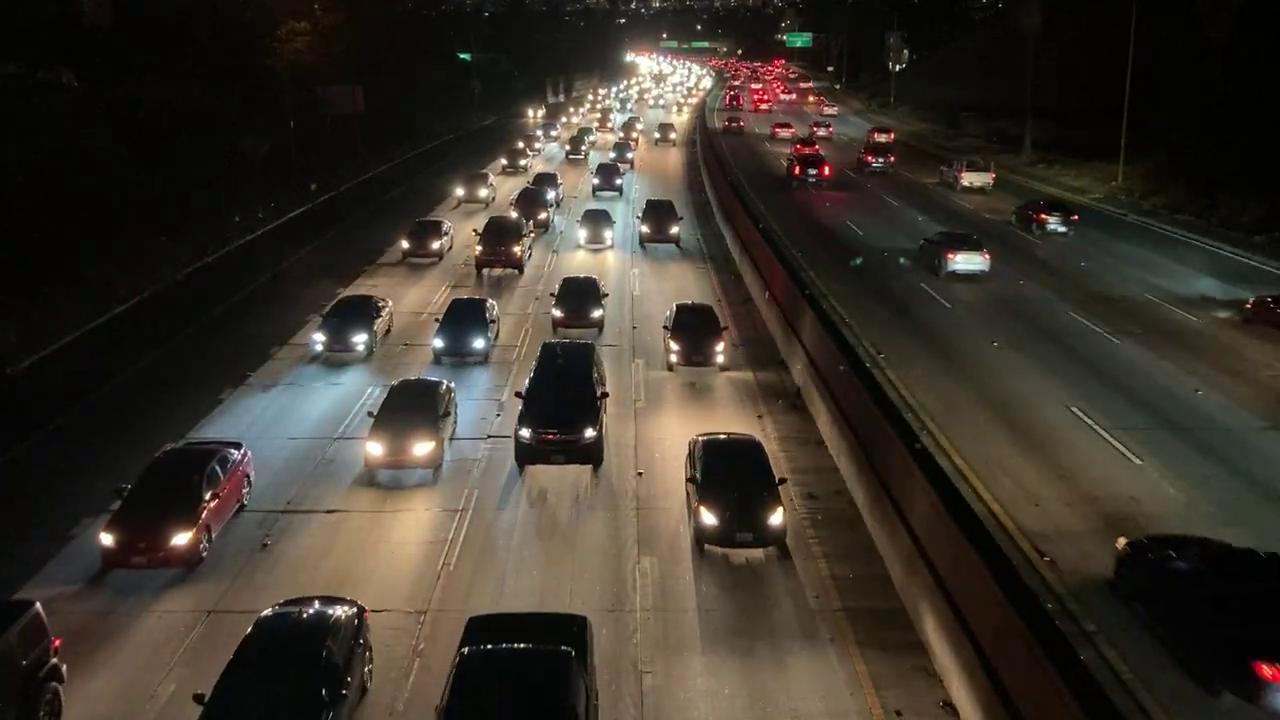car: (1106, 520, 1280, 700), (92, 424, 260, 586), (198, 584, 380, 720), (438, 608, 604, 720), (504, 330, 616, 484), (670, 424, 794, 562), (352, 370, 470, 502), (6, 580, 70, 720), (654, 298, 730, 378), (310, 294, 391, 364), (544, 269, 618, 337), (429, 296, 501, 364), (473, 216, 540, 274), (917, 231, 995, 280), (635, 195, 687, 254), (940, 151, 1005, 198), (394, 218, 453, 267), (504, 190, 560, 237), (1010, 201, 1079, 237), (570, 207, 623, 250), (453, 173, 506, 204), (786, 146, 830, 183), (862, 128, 898, 172), (1241, 294, 1279, 329), (593, 161, 625, 199), (497, 142, 535, 174), (609, 138, 638, 166), (652, 120, 682, 147), (770, 123, 802, 143), (565, 135, 591, 158), (811, 119, 835, 142), (723, 115, 745, 133)
